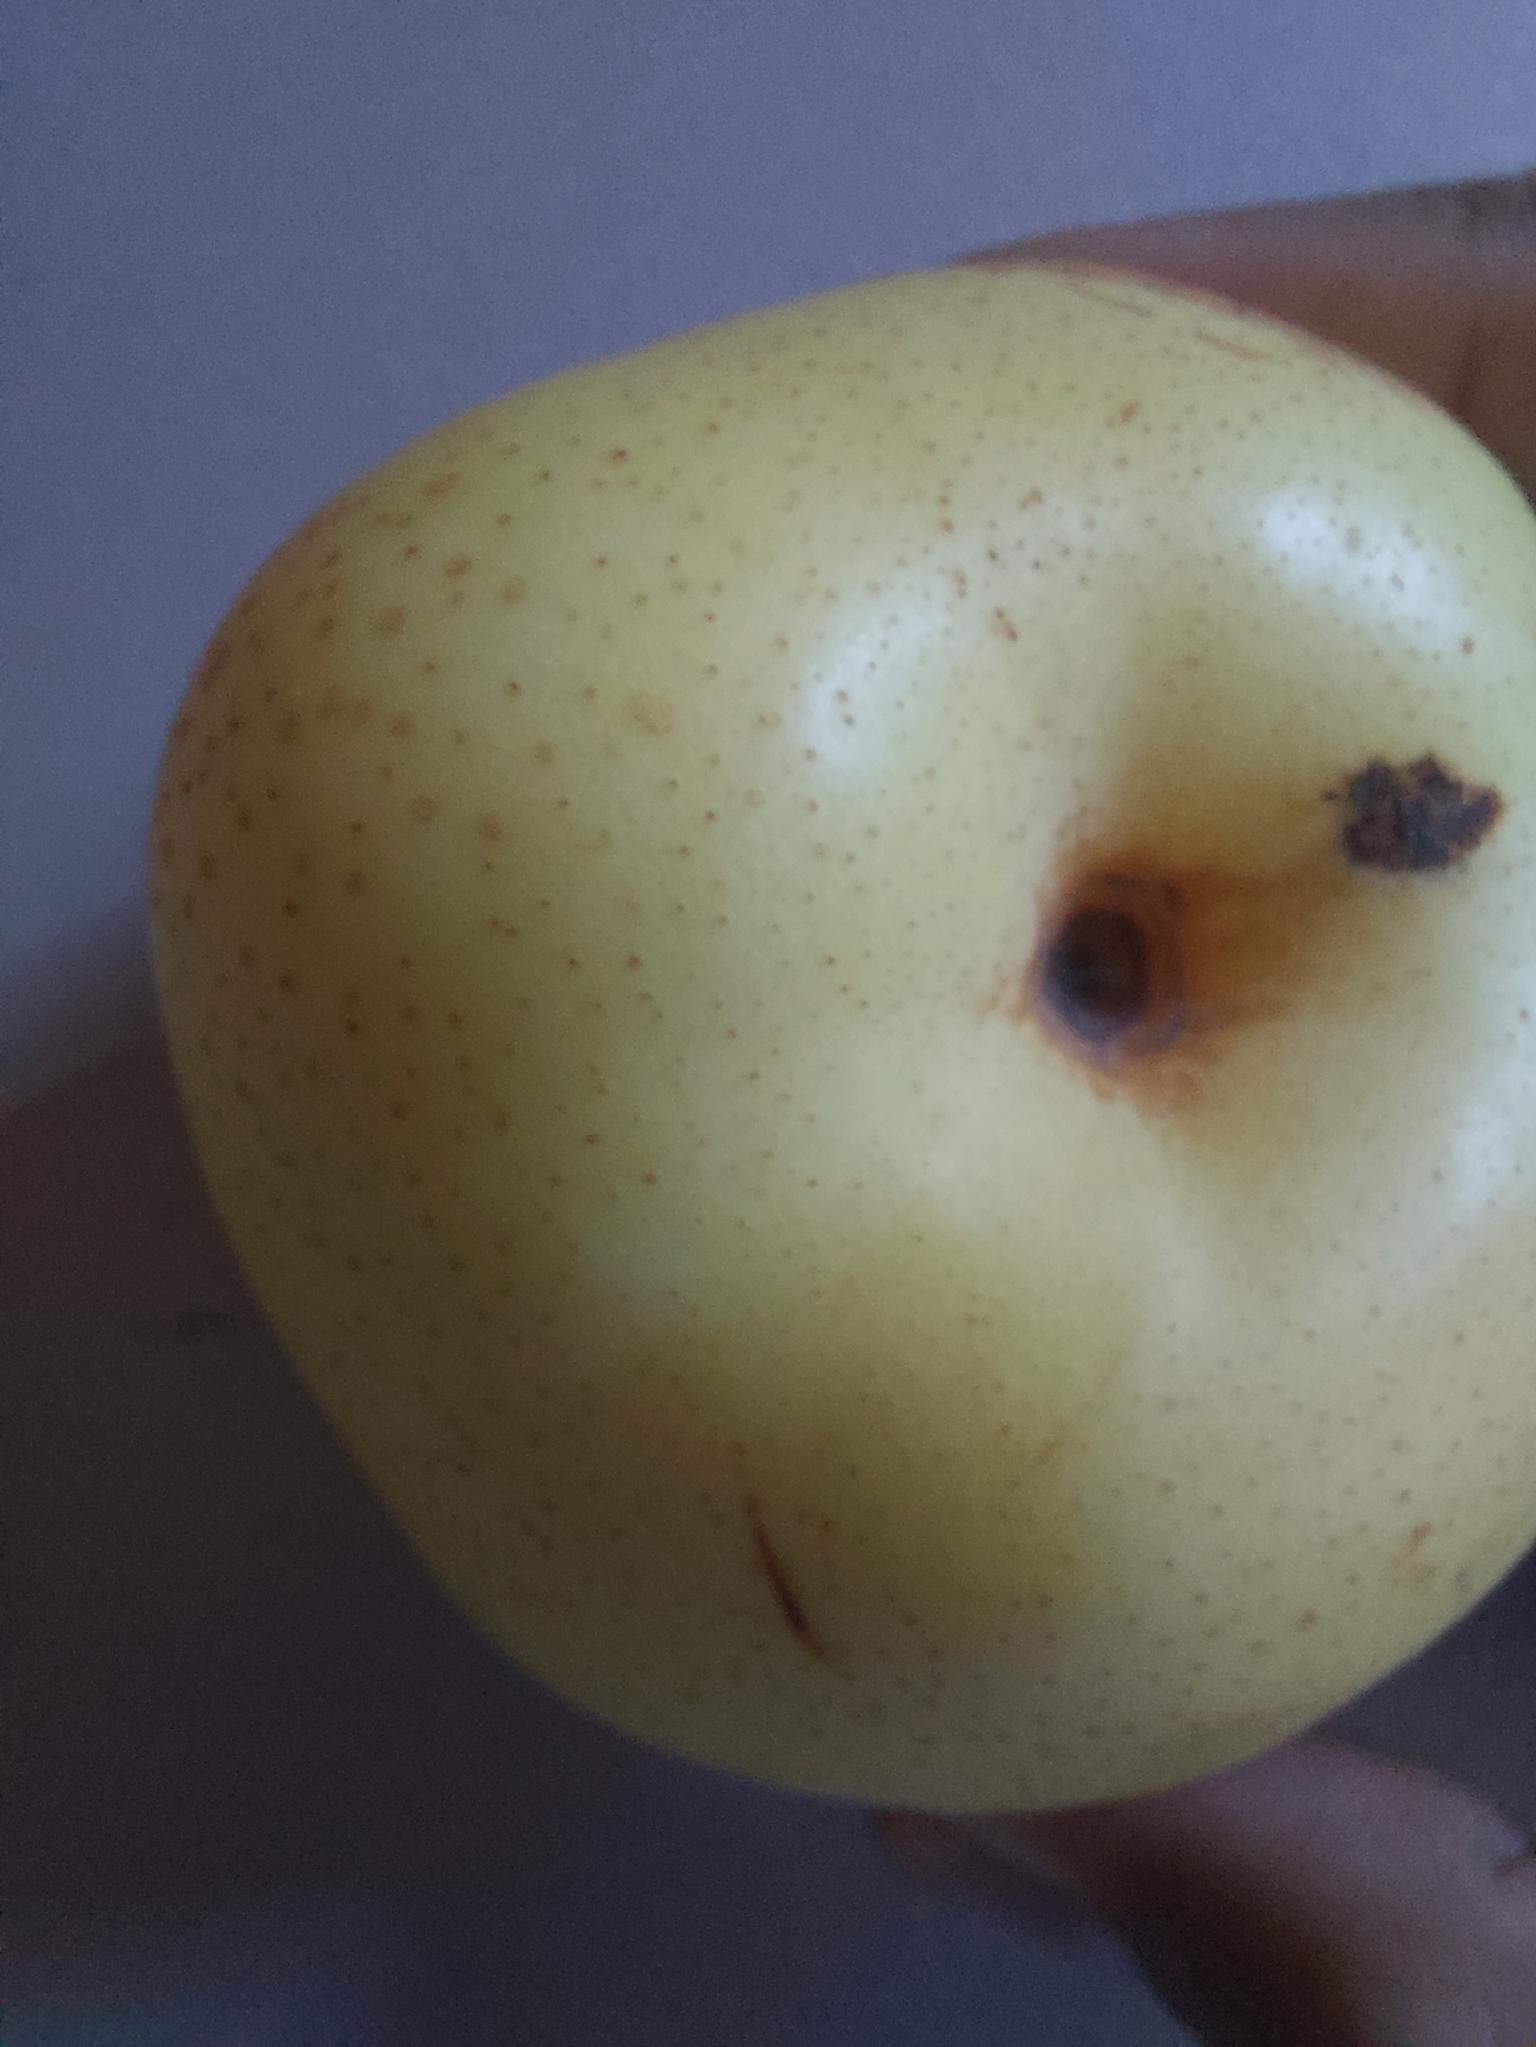Good Pear: (123, 256, 1533, 1812)
